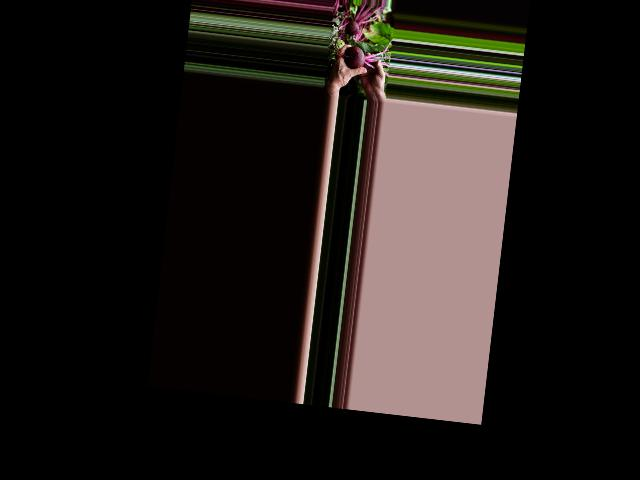beet: (342, 32, 392, 73)
